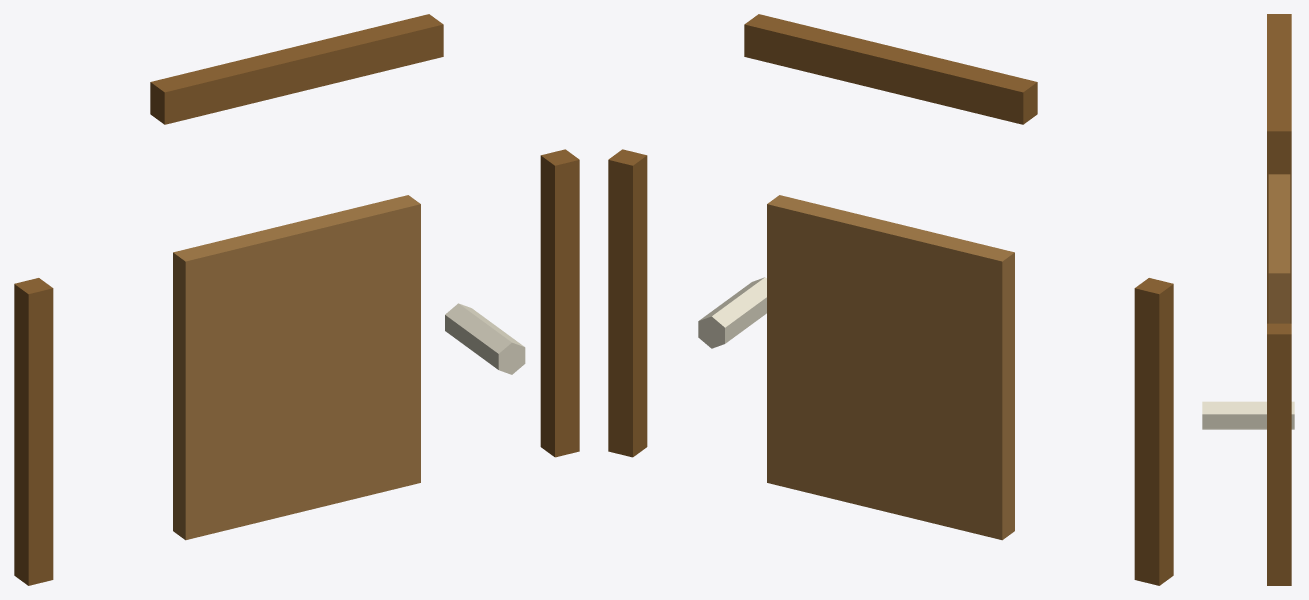
File: troll_door.dae
3 views of the same model, side by side, from view 1: azimuth 30°, elevation 25°; view 2: azimuth 150°, elevation 25°; view 3: azimuth 270°, elevation 25° (orthographic). The views are drawn at different scales.
Visible parts, largest first — view 1: Cube, Cube.001, Cube.003, Cube.002, Cylinder; view 2: Cube, Cube.001, Cube.003, Cube.002, Cylinder; view 3: Cube.003, Cube.001, Cube, Cylinder, Cube.002.
Boxes of the visible parts, bbox=[...] form: Cube: bbox=[173, 195, 420, 540]; Cube.001: bbox=[150, 14, 443, 124]; Cube.003: bbox=[540, 149, 579, 457]; Cube.002: bbox=[14, 278, 53, 585]; Cylinder: bbox=[445, 303, 525, 374]; Cube: bbox=[767, 195, 1014, 540]; Cube.001: bbox=[744, 14, 1037, 124]; Cube.003: bbox=[608, 149, 647, 457]; Cube.002: bbox=[1134, 278, 1173, 585]; Cylinder: bbox=[698, 277, 766, 348]; Cube.003: bbox=[1267, 323, 1291, 585]; Cube.001: bbox=[1267, 14, 1291, 159]; Cube: bbox=[1268, 174, 1290, 323]; Cylinder: bbox=[1202, 401, 1294, 429]; Cube.002: bbox=[1267, 159, 1291, 323].
Size of the model in its own units: 178 by 30 by 142.
